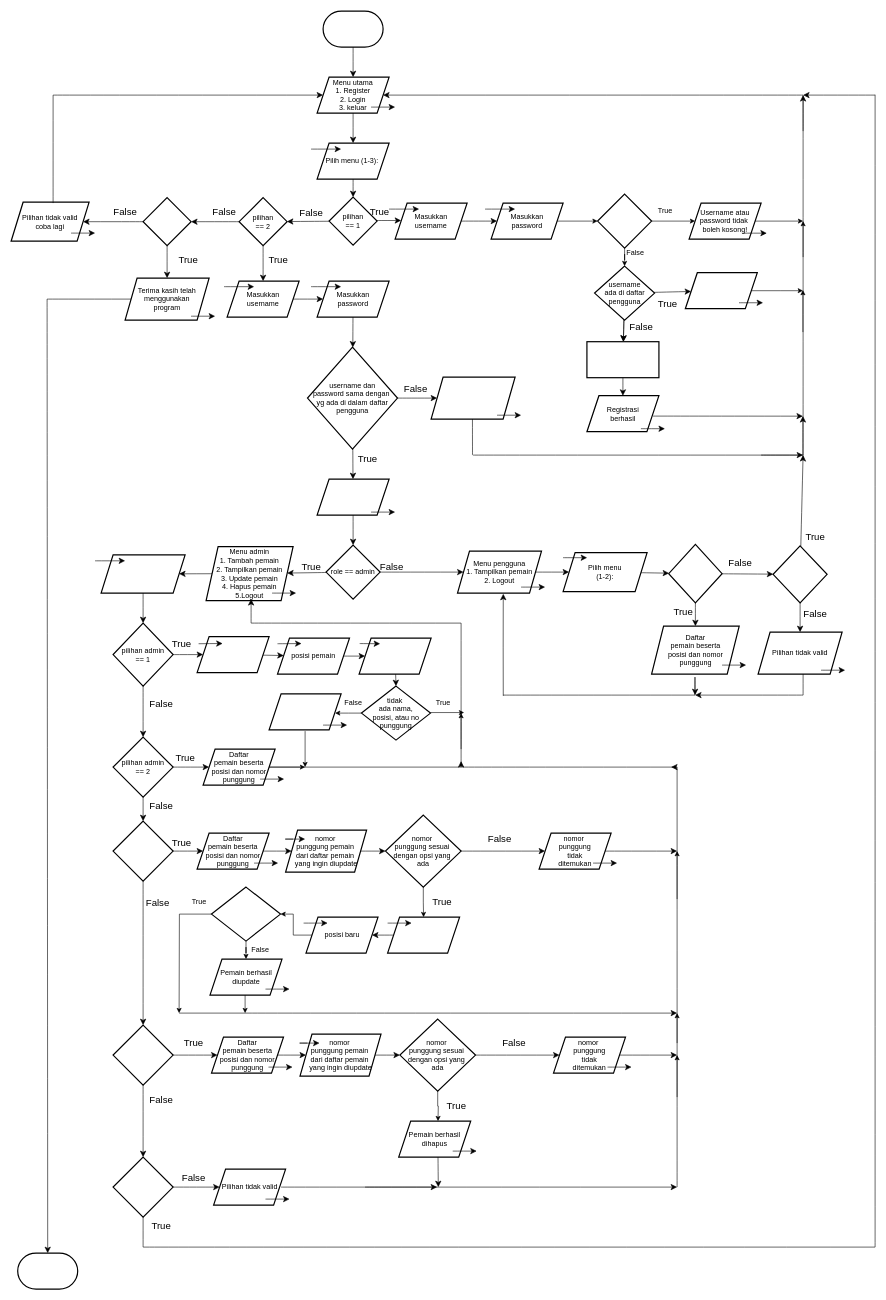
The diagram is 886 pixels wide and 1300 high, and some of its shapes have lost their labels. Here are the shapes that lost their labels. From the top down, the centre of each, then its label:
point 352,28: Start
point 166,221: pilihan == 3
point 624,220: Tidak ada usn atau tidak ada pw
point 721,290: username sudah terdaftar
point 622,359: username, password, akan masuk ke daftar pengguna dengan role user
point 472,397: Login gagal username atau password salah
point 352,496: Login berhasil beserta rolenya
point 142,573: Pilih menu (1-5):
point 695,573: pilihan user == 1
point 799,574: pilihan user == 2
point 232,654: nama pemain
point 394,655: nomor punggung pemain
point 304,711: pemain berhasil ditambahkan
point 142,850: pilihan admin == 3
point 246,913: tidak ada nama baru atau posisi baru
point 423,934: nama baru
point 142,1054: pilihan admin == 4
point 142,1186: pilihan admin == 5
point 47,1270: End
